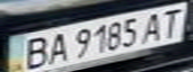1: (90, 21, 112, 54)
5: (118, 15, 145, 48)
8: (106, 18, 127, 52)
9: (69, 25, 93, 60)
A: (42, 30, 72, 65), (139, 9, 169, 43)
B: (15, 34, 51, 71)
T: (154, 6, 187, 39)
